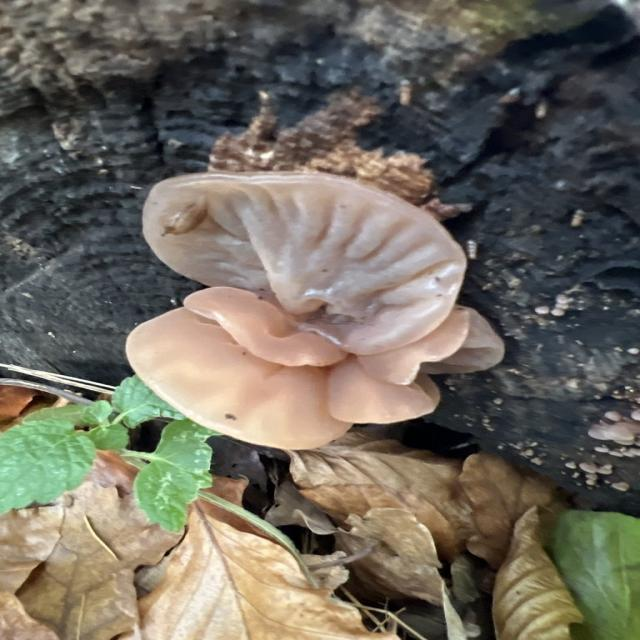Fase Muda: (132, 159, 501, 479)
